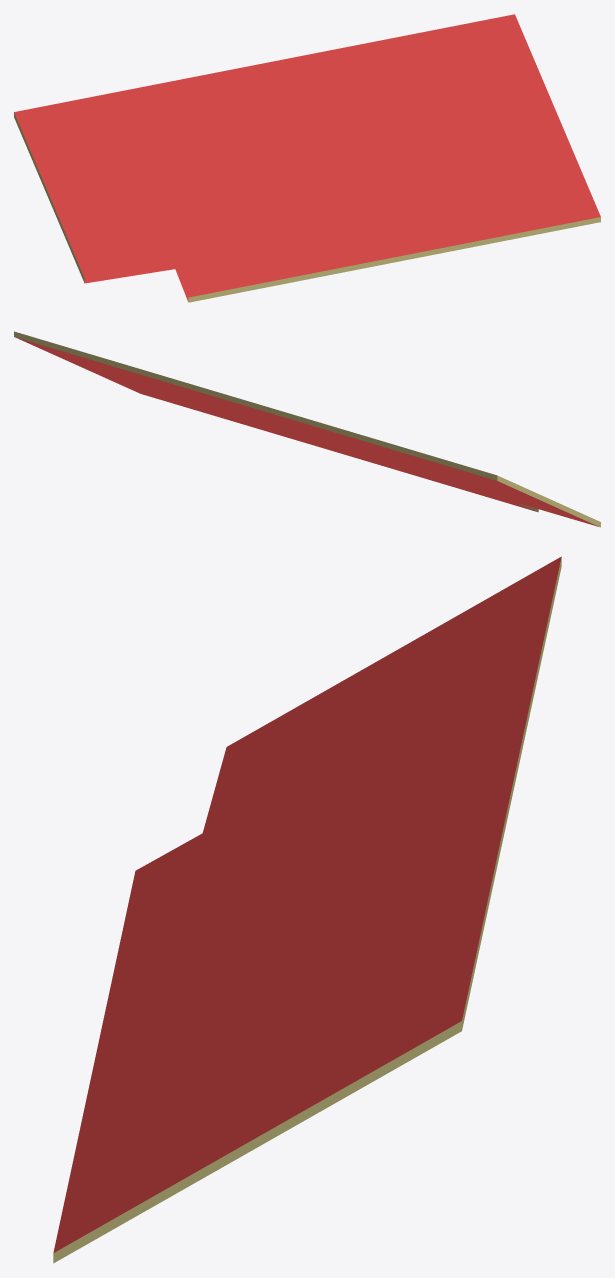
3 views of the same model, one above another, from view 1: azimuth 30°, elevation 25°; view 2: azimuth 150°, elevation 25°; view 3: azimuth 270°, elevation 25° (orthographic). The views are drawn at different scales.
Bounding box in the file's own units: 9.96 × 4.48 × 2.51.
